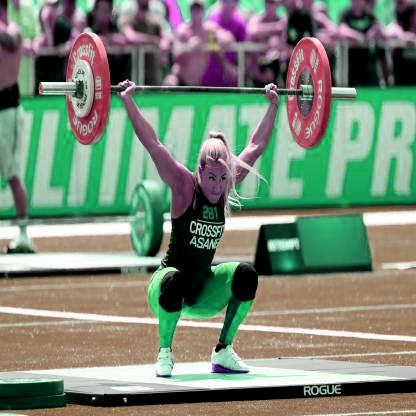barbell: (67, 32, 105, 145)
